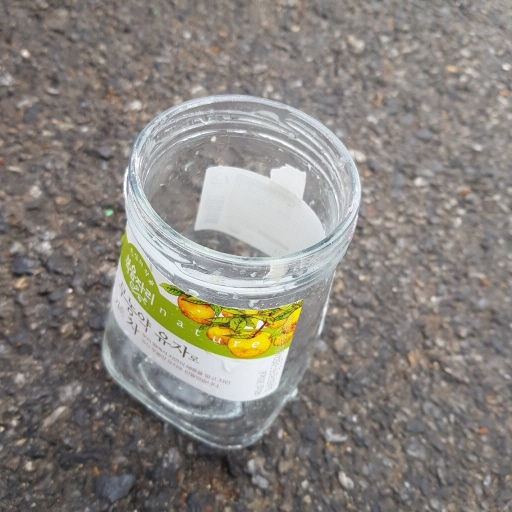Glass_5: (97, 89, 362, 446)
